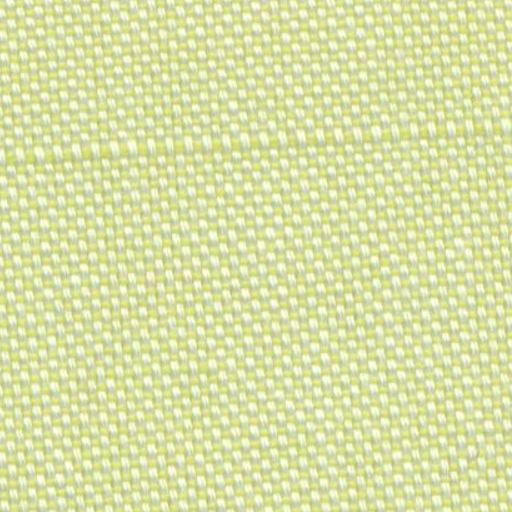TuoSha: (13, 104, 500, 174)
